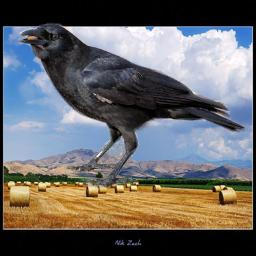Crow: (18, 22, 245, 188)
